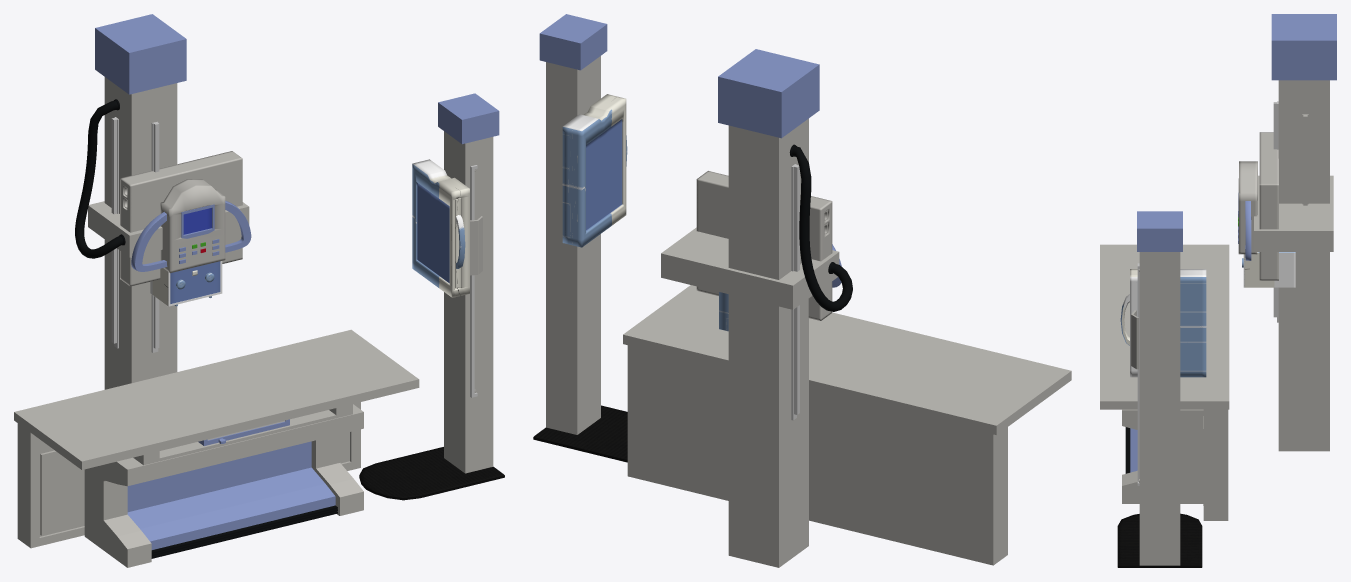
File: x_ray_machine.fbx
The picture shows the model from 3 angles, left to right: view 1: azimuth 30°, elevation 25°; view 2: azimuth 150°, elevation 25°; view 3: azimuth 270°, elevation 25°; orthographic projection. The views are drawn at different scales.
Visible parts, largest first — view 1: bed_bottom, back_post, bed, right_post, right_screen, back_screen, mat, knob_section, hose; view 2: back_post, bed_bottom, bed, right_post, right_screen, mat, hose; view 3: back_post, right_post, bed, bed_bottom, right_screen, mat, back_screen, knob_section.
Boxes of the visible parts, <box> form: bed_bottom: <box>17,402,363,567</box>; back_post: <box>88,14,249,389</box>; bed: <box>14,329,419,469</box>; right_post: <box>438,93,499,473</box>; right_screen: <box>412,159,469,297</box>; back_screen: <box>131,179,251,273</box>; mat: <box>359,447,504,500</box>; knob_section: <box>150,261,222,306</box>; hose: <box>75,99,125,258</box>; back_post: <box>661,49,839,567</box>; bed_bottom: <box>627,345,1007,565</box>; bed: <box>623,285,1071,434</box>; right_post: <box>539,14,607,434</box>; right_screen: <box>562,94,627,247</box>; mat: <box>533,405,627,462</box>; hose: <box>789,144,852,311</box>; back_post: <box>1254,14,1336,451</box>; right_post: <box>1131,211,1182,565</box>; bed: <box>1100,244,1229,409</box>; bed_bottom: <box>1122,409,1228,520</box>; right_screen: <box>1120,269,1206,377</box>; mat: <box>1117,513,1202,567</box>; back_screen: <box>1238,161,1257,260</box>; knob_section: <box>1242,252,1295,287</box>.
Bounding box in the file's own units: 720 × 690 × 355.
13 materials, 5 textured.
